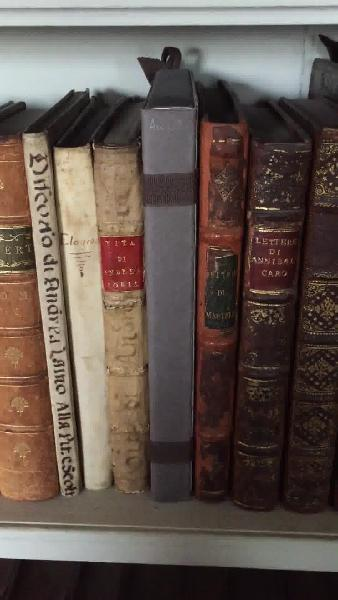Aa6-24: (15, 119, 88, 506)
Aa6-25: (49, 145, 121, 489)
Aa6-26: (88, 141, 155, 493)
Aa6-27: (143, 94, 198, 497)
Aa6-28: (189, 94, 248, 506)
Aa6-29: (230, 109, 299, 525)
Aa6-30: (286, 96, 338, 534)
